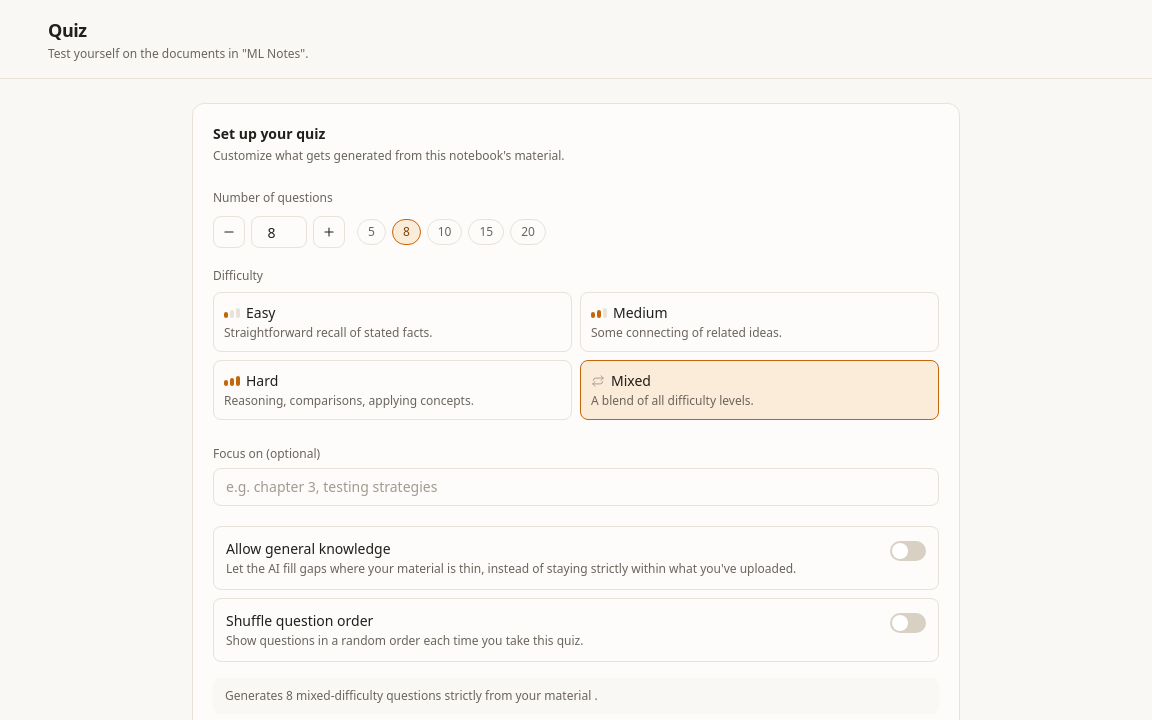
Test: QuizView › stepper buttons and preset chips both adjust the question count, reflected in the summary
Click the button named "increase question count" at [329, 232], box x1=313 y1=216 x2=345 y2=248
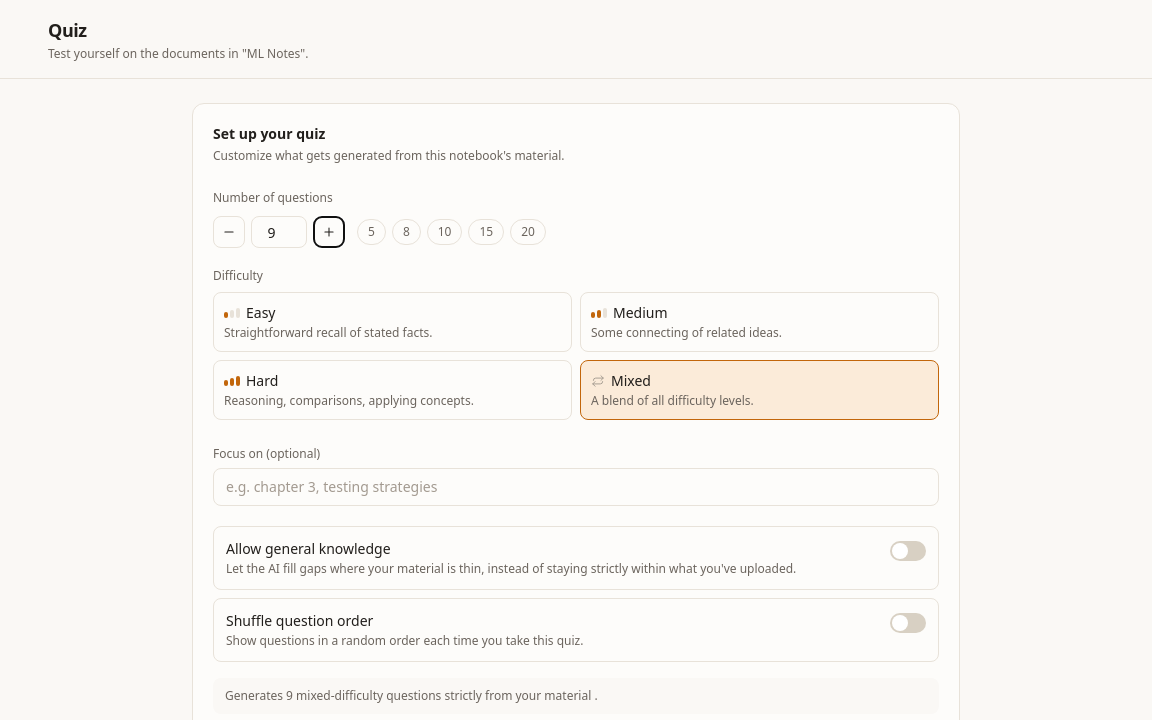
Check: the number field labelled "Number of questions" holds "9", box x1=251 y1=216 x2=307 y2=248
Click the button named "decrease question count" at [229, 232], box x1=213 y1=216 x2=245 y2=248
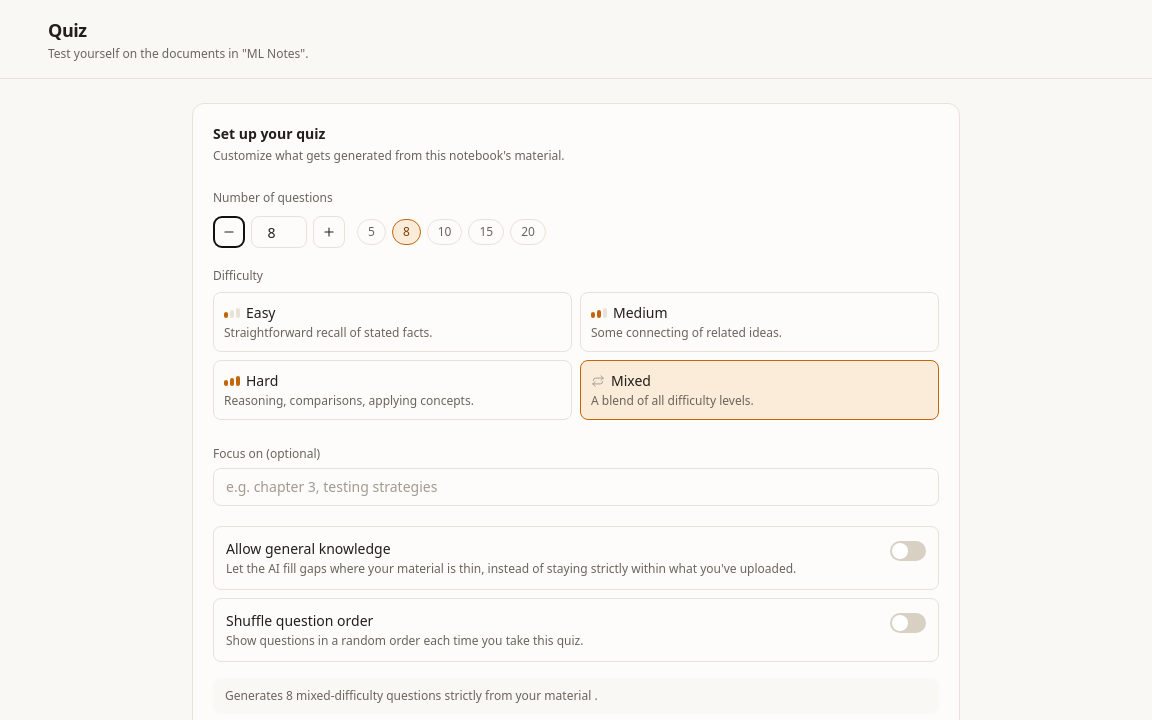
Click the button named "decrease question count" at [229, 232], box x1=213 y1=216 x2=245 y2=248
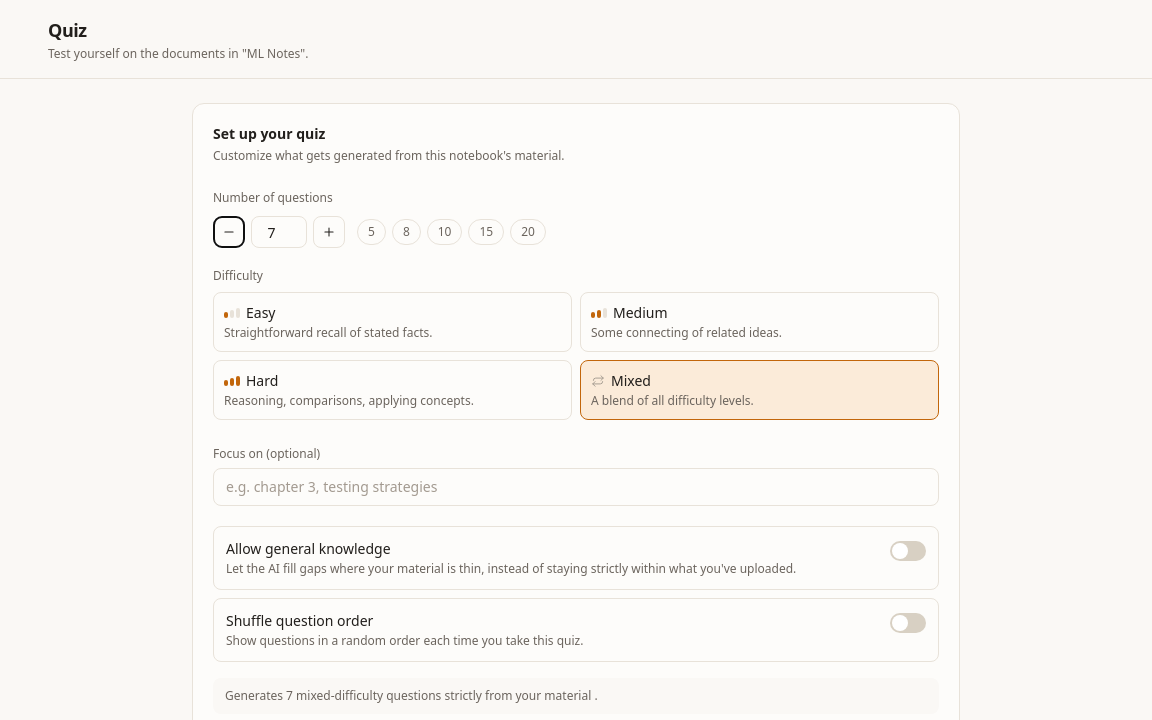
Check: the number field labelled "Number of questions" holds "7", box x1=251 y1=216 x2=307 y2=248
Click the button "15" at [486, 232], box x1=468 y1=219 x2=504 y2=245
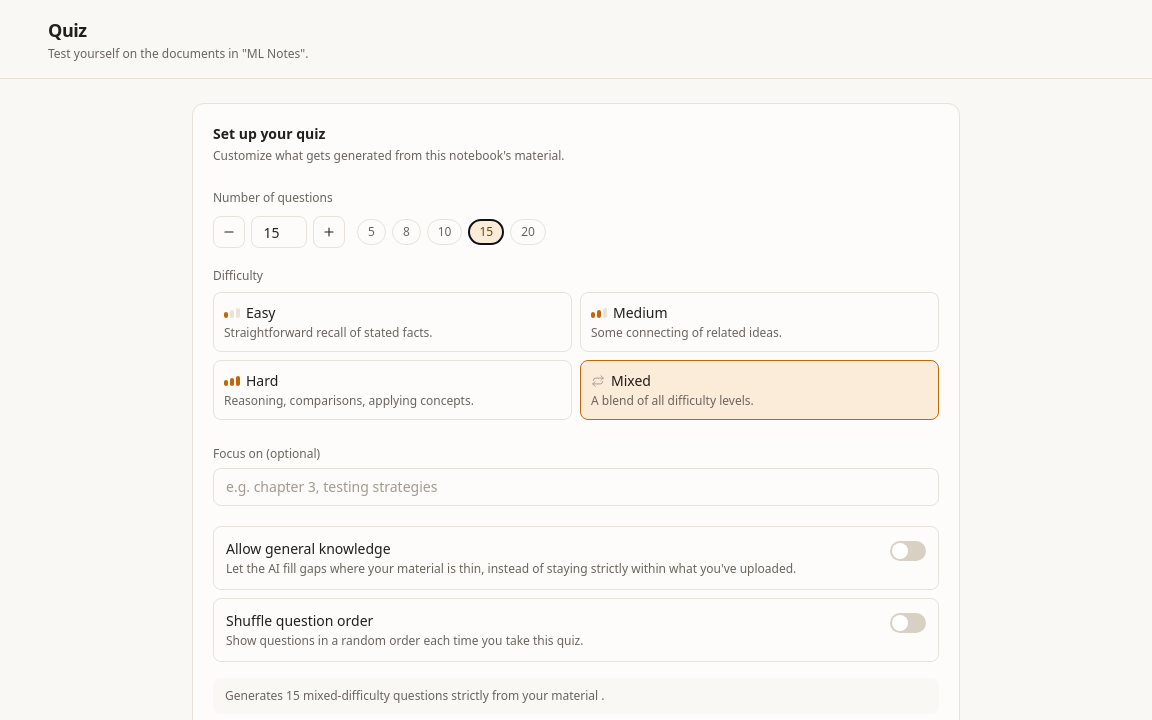
Check: the number field labelled "Number of questions" holds "15", box x1=251 y1=216 x2=307 y2=248
Check: the text "Generates 15 mixed-difficulty questions" is shown, box x1=225 y1=687 x2=604 y2=704
